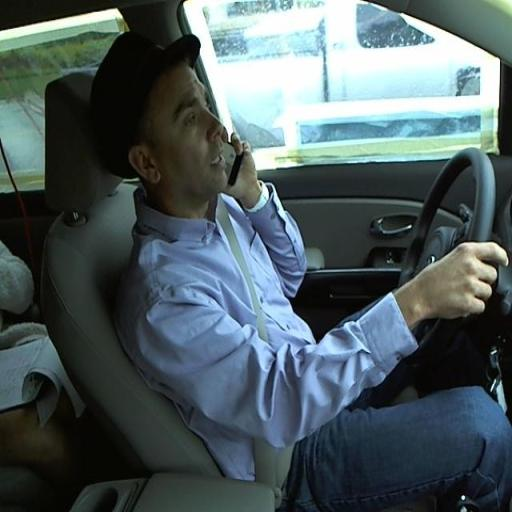talking_phone: (106, 54, 492, 414)
